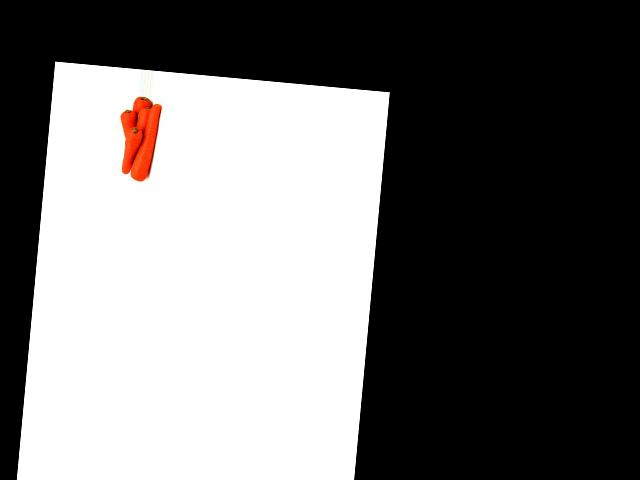carrot: (119, 108, 139, 142)
